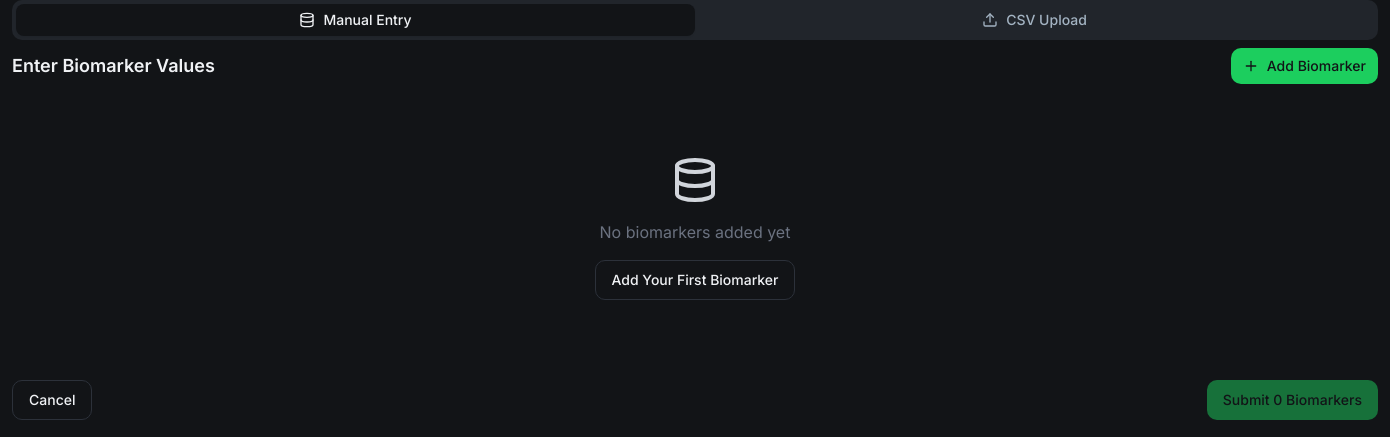
Test: BiomarkerForm › allows removing biomarkers
# Add a biomarker
What coordinates should you click on to do the following:
click the button "Add Biomarker"
I would click on:
 (1304, 66)
Its box is [1231,48,1378,84].
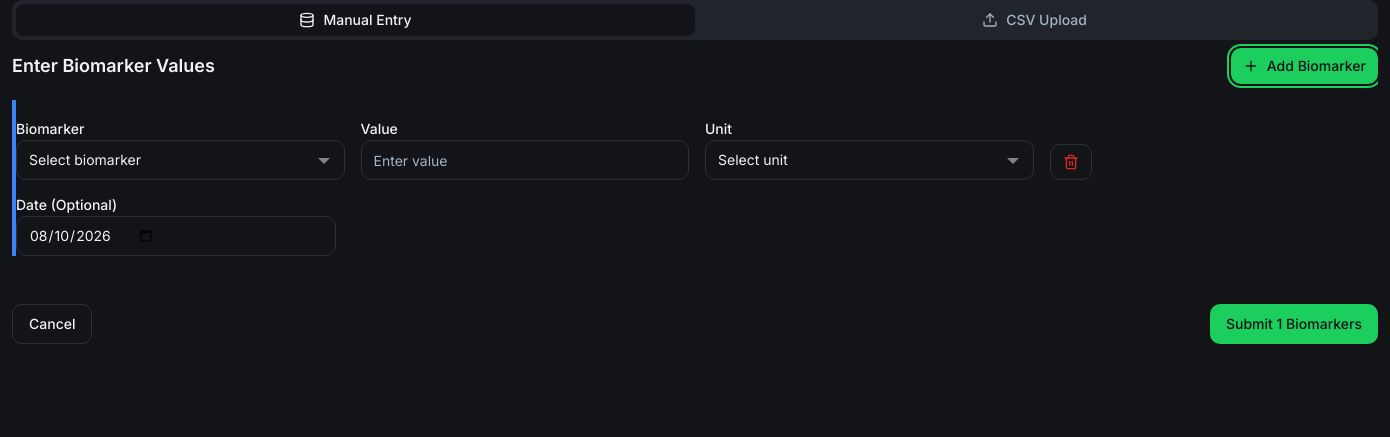
# Remove the biomarker
What coordinates should you click on to do the following:
click the button named "remove biomarker"
I would click on:
 (1070, 162)
Its box is [1050,144,1092,180].
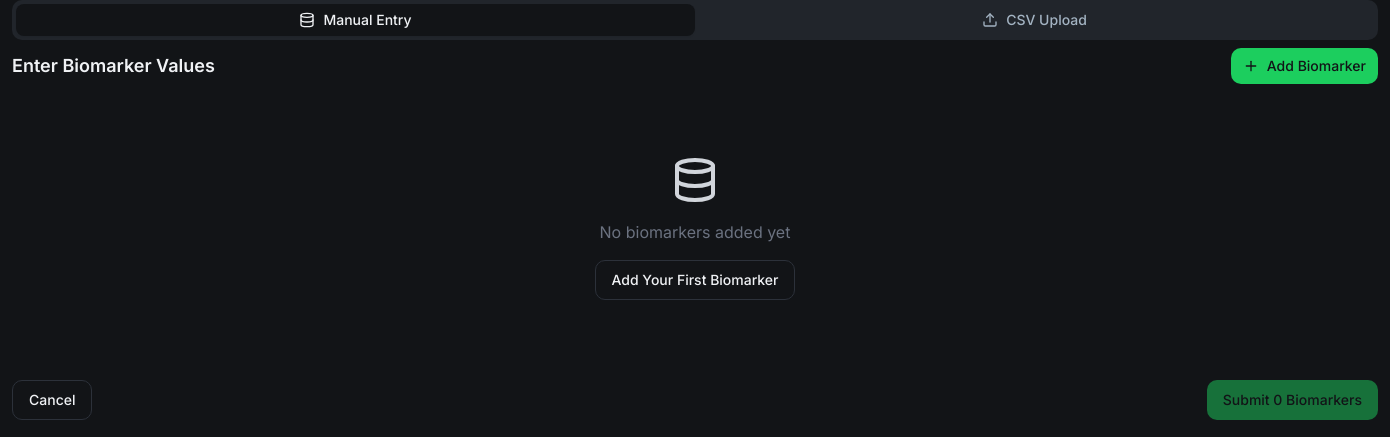
Now the text "No biomarkers added yet" is shown, box [600,222,790,242]
